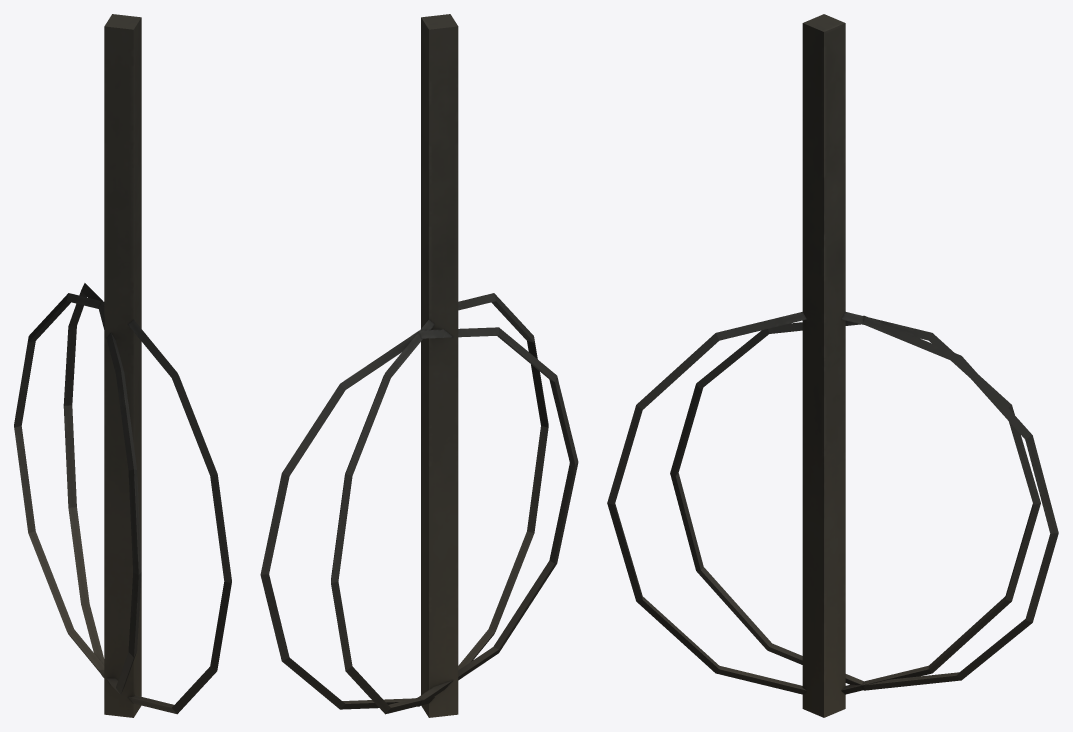
Rendered from barb-post.glb.
The picture shows the model from 3 angles, left to right: view 1: azimuth 30°, elevation 25°; view 2: azimuth 150°, elevation 25°; view 3: azimuth 270°, elevation 25°; orthographic projection.
Parts seen in each view (by area): view 1: hull; view 2: hull; view 3: hull.
Boxes of the visible parts, left/top/right/bottom form: hull: left=14, top=14, right=231, bottom=717; hull: left=260, top=14, right=578, bottom=717; hull: left=607, top=14, right=1058, bottom=717.
Size of the model in its own units: 0.2865 by 1.5 by 0.8953.
1 material, 1 textured.
